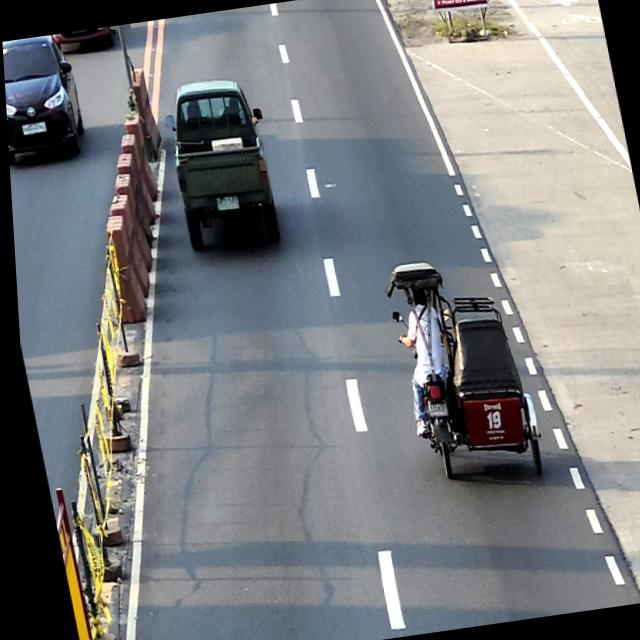Car: (155, 72, 286, 260), (2, 33, 89, 168)
License-Plate: (213, 195, 237, 211), (423, 401, 443, 418), (22, 122, 43, 134)
Tricycle: (377, 249, 544, 489)
